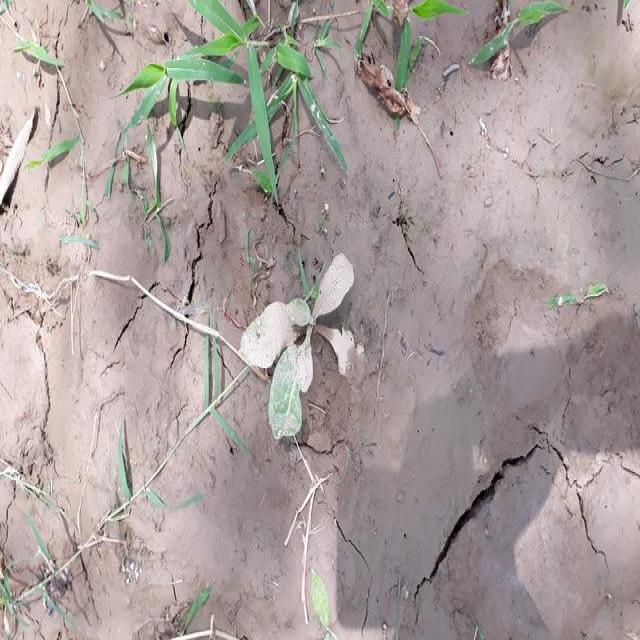crop: (236, 263, 364, 443)
